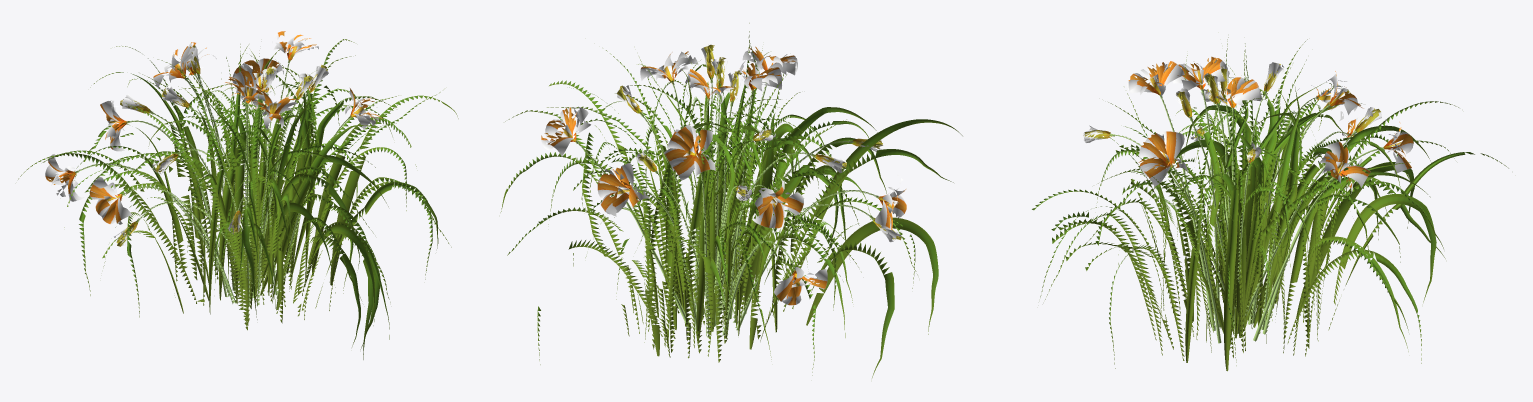
The model's file is dbxc.gltf.
The picture shows the model from 3 angles, left to right: view 1: azimuth 30°, elevation 25°; view 2: azimuth 150°, elevation 25°; view 3: azimuth 270°, elevation 25°; orthographic projection. The views are drawn at different scales.
Parts seen in each view (by area): view 1: dbxcg5; view 2: dbxcg5; view 3: dbxcg5.
Part boxes in pixels (box(x1,y1,x2,y2)): dbxcg5: box(18, 31, 458, 359); dbxcg5: box(500, 23, 962, 377); dbxcg5: box(1032, 37, 1508, 371).
Size of the model in its own units: 13.04 by 9.57 by 14.33.
5 materials, 4 textured.
